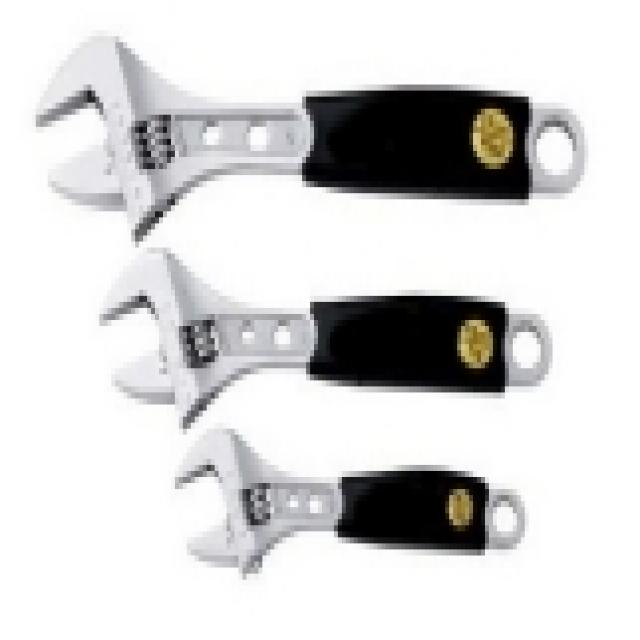Wrench: (30, 27, 595, 250), (94, 244, 558, 432), (170, 422, 530, 582)
